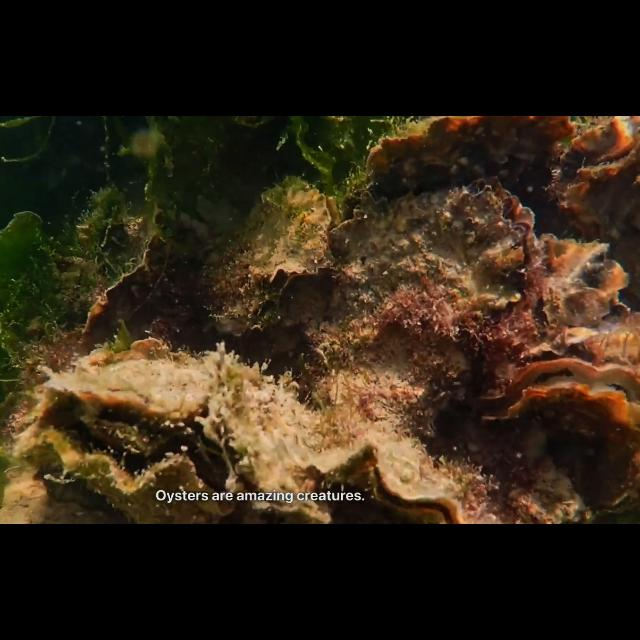Oyster-Closed: (366, 115, 576, 212), (74, 234, 202, 354)
Oyster-Open: (316, 174, 540, 436), (21, 360, 241, 524), (203, 343, 331, 524), (548, 116, 640, 302), (294, 437, 484, 525), (478, 358, 640, 448), (534, 233, 632, 357), (196, 222, 284, 338), (254, 185, 340, 301), (589, 452, 640, 518)
